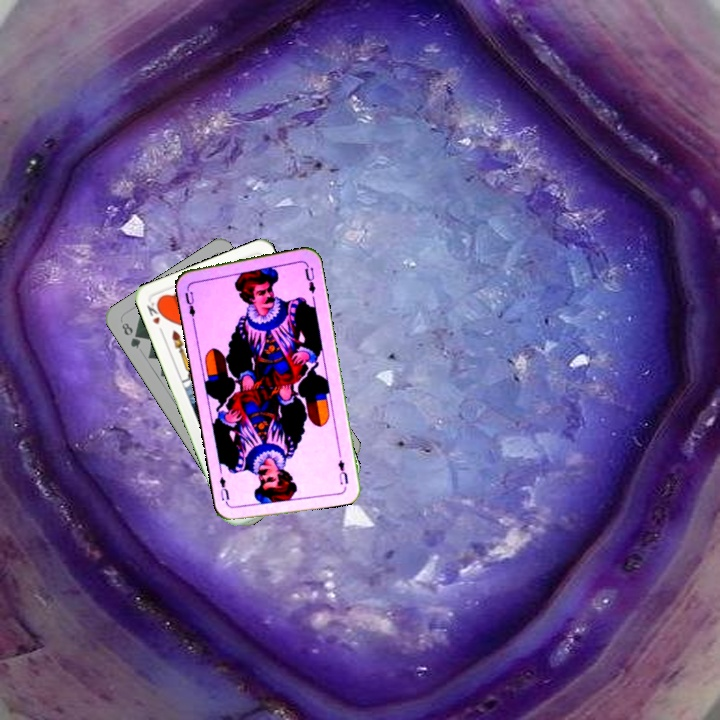EU: (181, 283, 198, 323), (334, 456, 351, 487)
G8: (117, 318, 143, 352)
HK: (143, 298, 167, 337)
